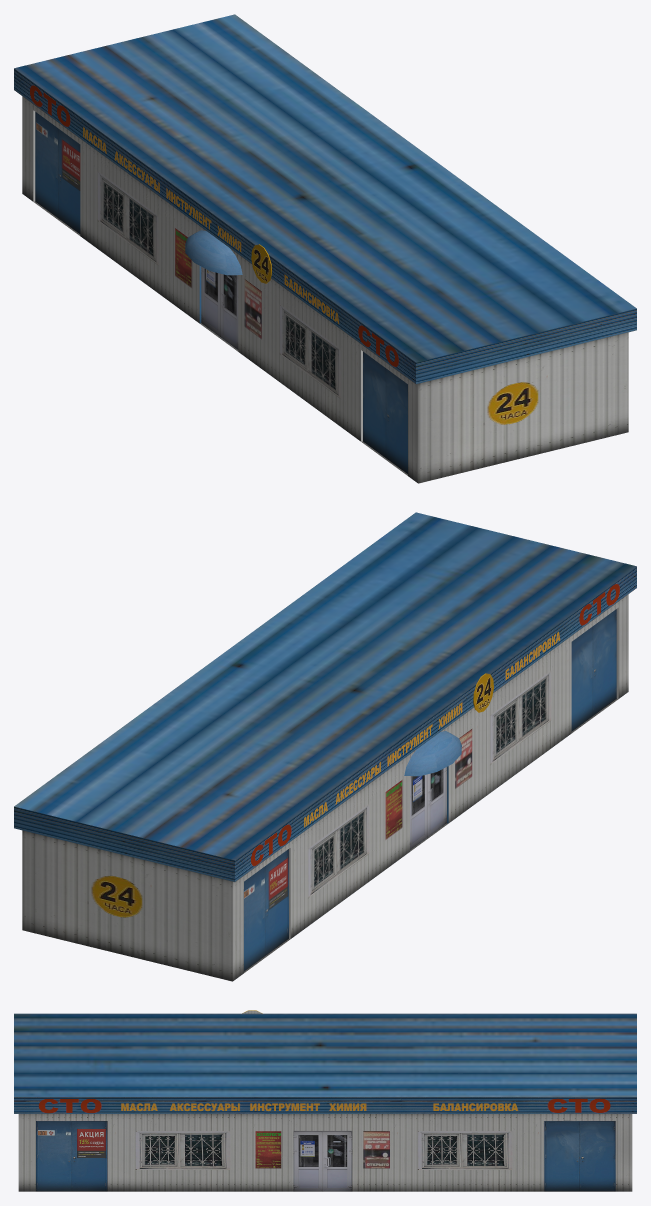
File: omsk_avtomagazin6.FBX
The picture shows the model from 3 angles, top to bottom: view 1: azimuth 30°, elevation 25°; view 2: azimuth 150°, elevation 25°; view 3: azimuth 270°, elevation 25°; orthographic projection. The views are drawn at different scales.
Parts seen in each view (by area): view 1: omsk_avtomagazin6; view 2: omsk_avtomagazin6; view 3: omsk_avtomagazin6.
Part boxes in pixels (x1,y1,x2,y2): omsk_avtomagazin6: [14, 14, 636, 483]; omsk_avtomagazin6: [14, 512, 636, 981]; omsk_avtomagazin6: [14, 1010, 636, 1191].
Bounding box in the file's own units: 6.83 × 19.84 × 3.5.
